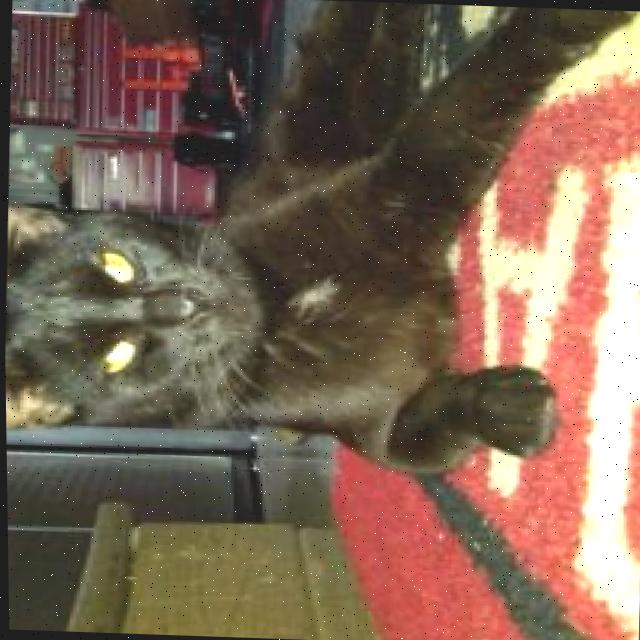Bombay: (0, 0, 640, 485)
